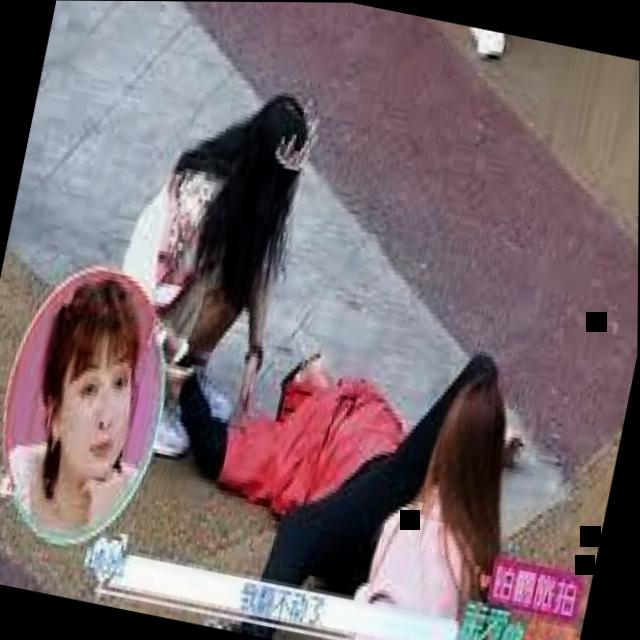Fall-Detected: (116, 259, 539, 640)
